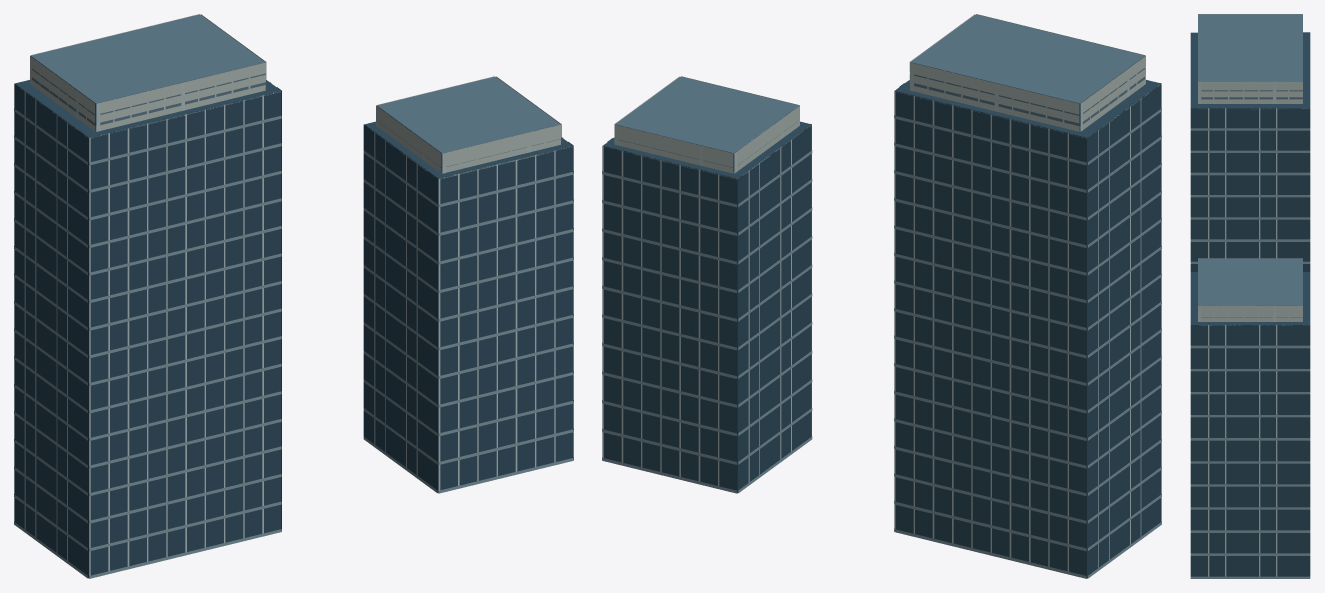
File: 联泰超总中心附属体-未定位.glb
3 renders of one model, left to right at view 1: azimuth 30°, elevation 25°; view 2: azimuth 150°, elevation 25°; view 3: azimuth 270°, elevation 25°, orthographic. The views are drawn at different scales.
Parts seen in each view (by area): view 1: 约70米体量, 约50米体量, Floor edges (×2), Cap (×2), Vertical fins (×2), Stacked bays (×2), Section bands (×2); view 2: 约70米体量, 约50米体量, Floor edges (×2), Cap (×2), Vertical fins (×2), Stacked bays (×2), Section bands (×2); view 3: 约50米体量, 约70米体量, Cap (×2), Stacked bays (×2), Floor edges (×2), Section bands (×2), Vertical fins (×3).
Part boxes in pixels (<box>): 约70米体量: <box>14,80,281,578</box>; 约50米体量: <box>364,121,573,493</box>; Floor edges (×2): <box>14,108,573,578</box>; Cap (×2): <box>30,14,560,172</box>; Vertical fins (×2): <box>24,82,562,575</box>; Stacked bays (×2): <box>14,84,573,571</box>; Section bands (×2): <box>30,14,561,172</box>; 约70米体量: <box>895,80,1161,578</box>; 约50米体量: <box>603,121,811,493</box>; Floor edges (×2): <box>602,108,1161,578</box>; Cap (×2): <box>615,14,1145,172</box>; Vertical fins (×2): <box>602,83,1161,571</box>; Stacked bays (×2): <box>607,83,1156,578</box>; Section bands (×2): <box>614,14,1145,173</box>; 约50米体量: <box>1190,272,1310,576</box>; 约70米体量: <box>1190,32,1310,271</box>; Cap (×2): <box>1198,14,1302,317</box>; Stacked bays (×2): <box>1190,32,1309,576</box>; Floor edges (×2): <box>1190,128,1310,578</box>; Section bands (×2): <box>1198,14,1302,321</box>; Vertical fins (×3): <box>1198,14,1302,576</box>.
Bounding box in the file's own units: 75.73 × 69.9 × 20.23.
